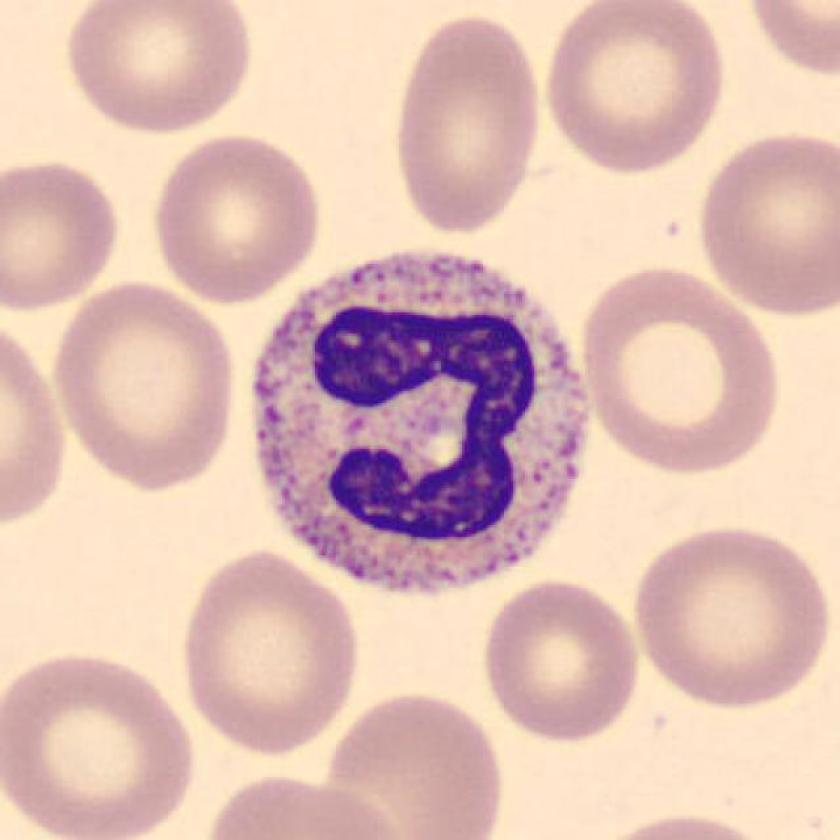neutrophil: (253, 252, 585, 594)
